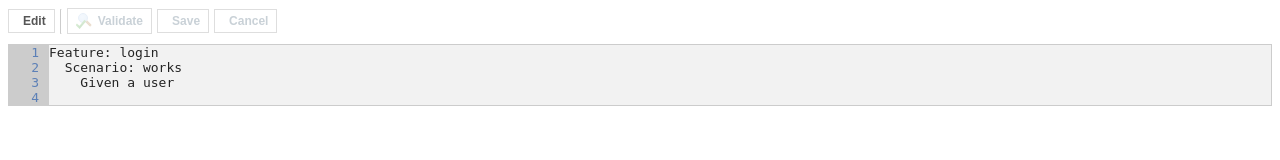
Cucumber Test panel › says so when the parser accepts the feature
Click the button "Edit" at (31, 21), box [8,9,55,33]
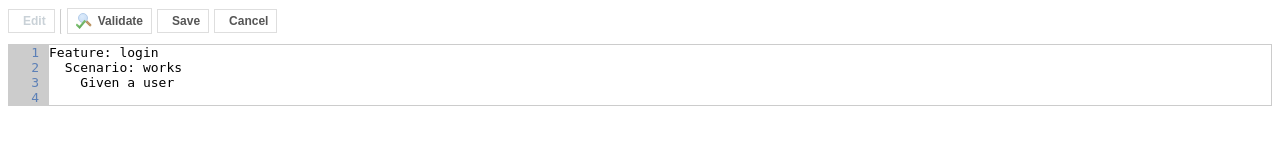
Click the button "Validate" at (109, 21), box [67,8,152,34]
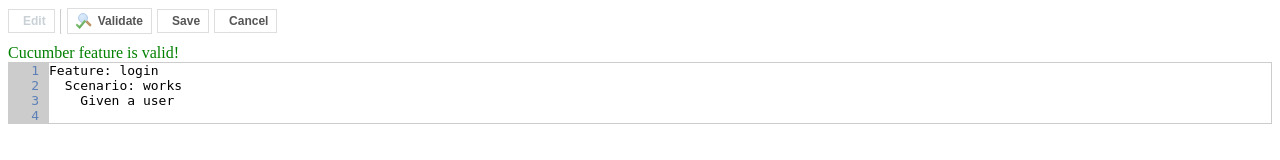
Check: the element with id "feature-validation-result" shows "valid", box [8,44,179,61]
